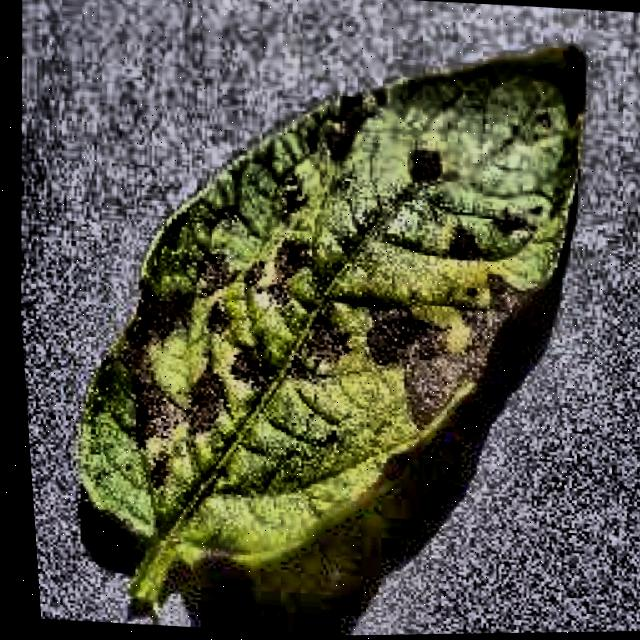Potato_leaf_early_blight: (80, 47, 580, 605)
